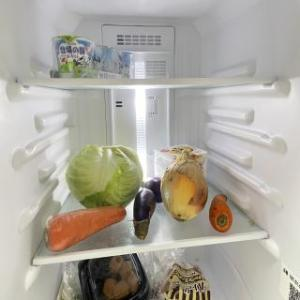cabbage: (66, 143, 142, 209)
carrot: (44, 208, 130, 252), (211, 193, 231, 233)
eggplant: (133, 190, 155, 240), (142, 177, 164, 203)
onion: (162, 150, 208, 220)
